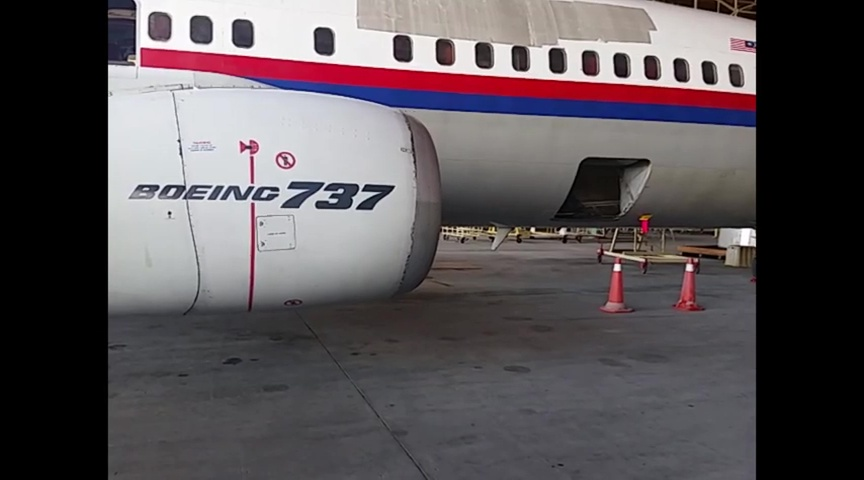safety_cone: (599, 256, 635, 315), (670, 258, 706, 312)
